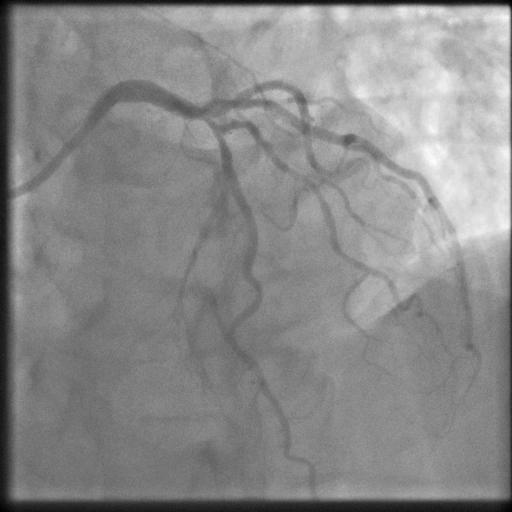Stenosis: (194, 109, 232, 145)
